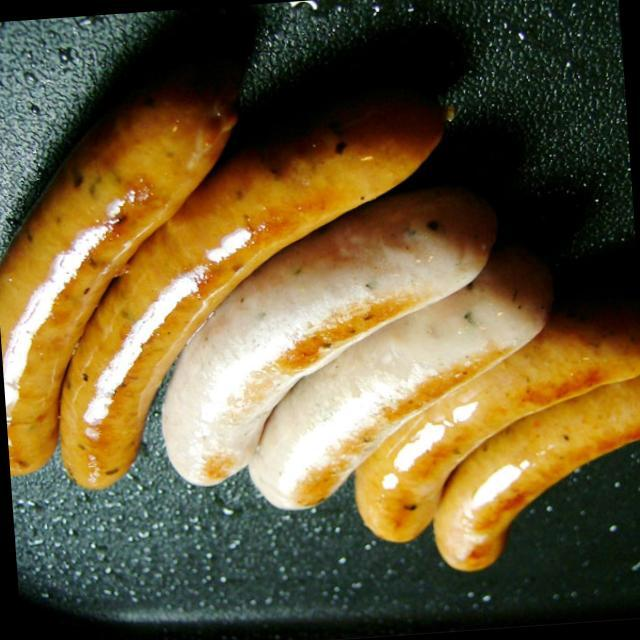Sausage: (0, 58, 640, 611)
